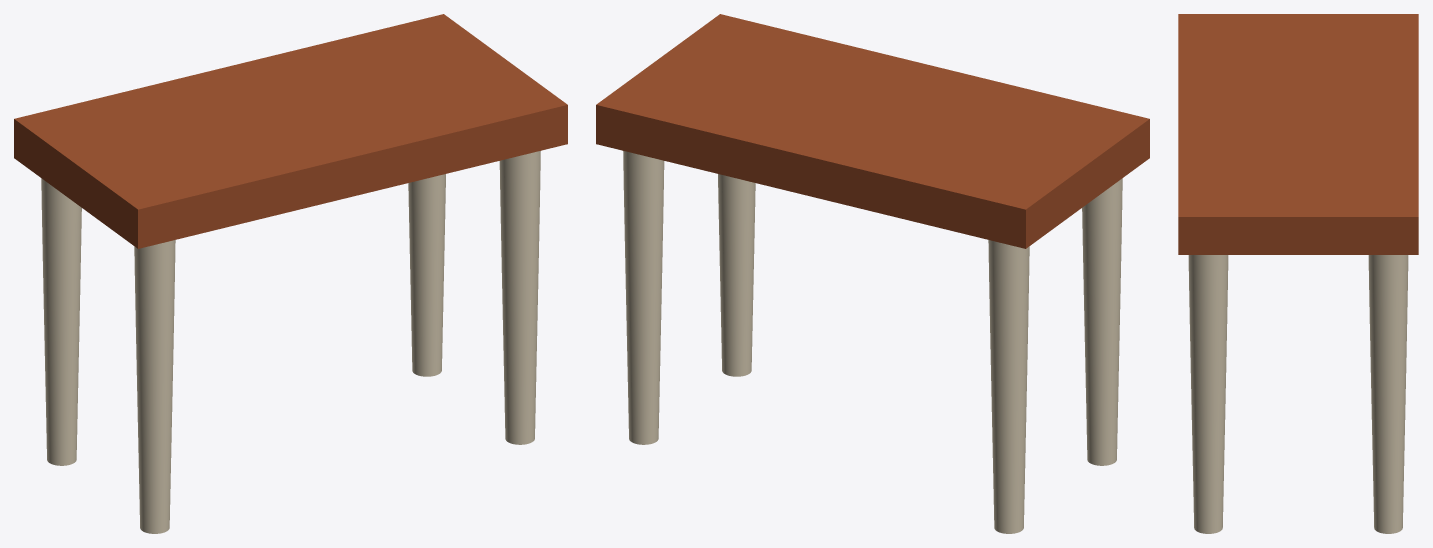
File: desk1_wood.glb
3 renders of one model, left to right at view 1: azimuth 30°, elevation 25°; view 2: azimuth 150°, elevation 25°; view 3: azimuth 270°, elevation 25°, orthographic. The views are drawn at different scales.
Visible parts, largest first — view 1: Box002; view 2: Box002; view 3: Box002.
Part boxes in pixels (left/top/right/bottom): Box002: left=14, top=14, right=567, bottom=533; Box002: left=596, top=14, right=1149, bottom=533; Box002: left=1178, top=14, right=1418, bottom=533.
Size of the model in its own units: 0.16 by 0.12 by 0.08.
1 material, 1 textured.
